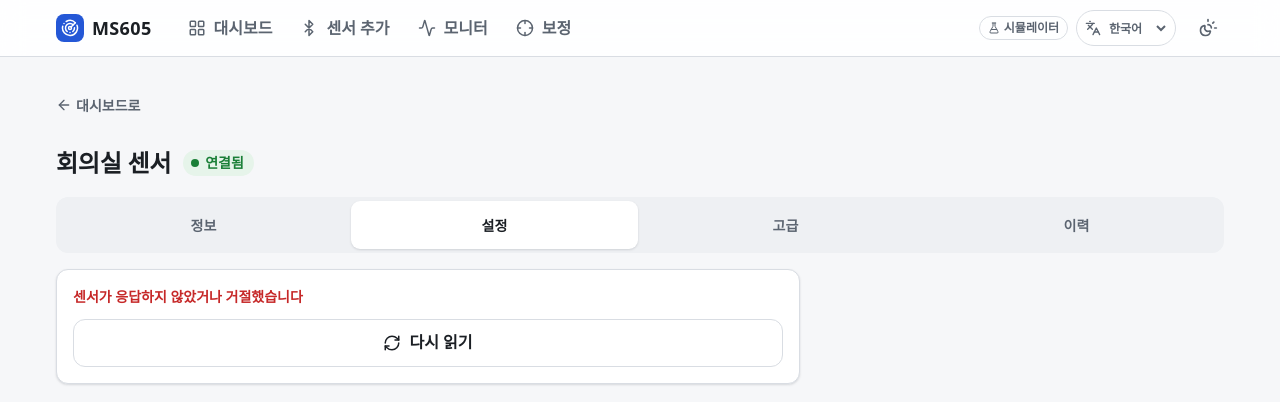
language control › retranslates an existing config read error without retrying the request
Expected: the message reads "센서가 응답하지 않았거나 거절했습니다", 73,287 -> 303,306
Select "English" in the dropdown named "언어" at (1137, 28), box 1105,18 -> 1169,38
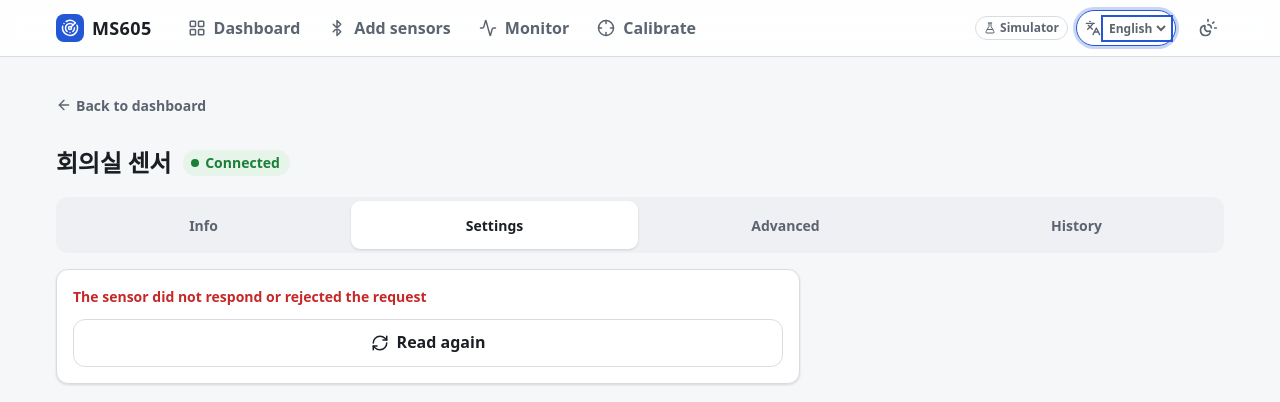
Expected: the heading "회의실 센서" is shown, 56,145 -> 171,181
Result: the message reads "The sensor did not respond or rejected the request" at 73,287 -> 426,306
